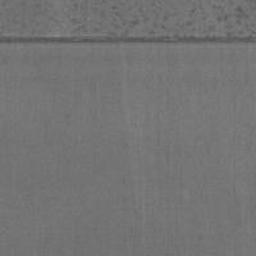Welding line: (0, 36, 256, 43)
